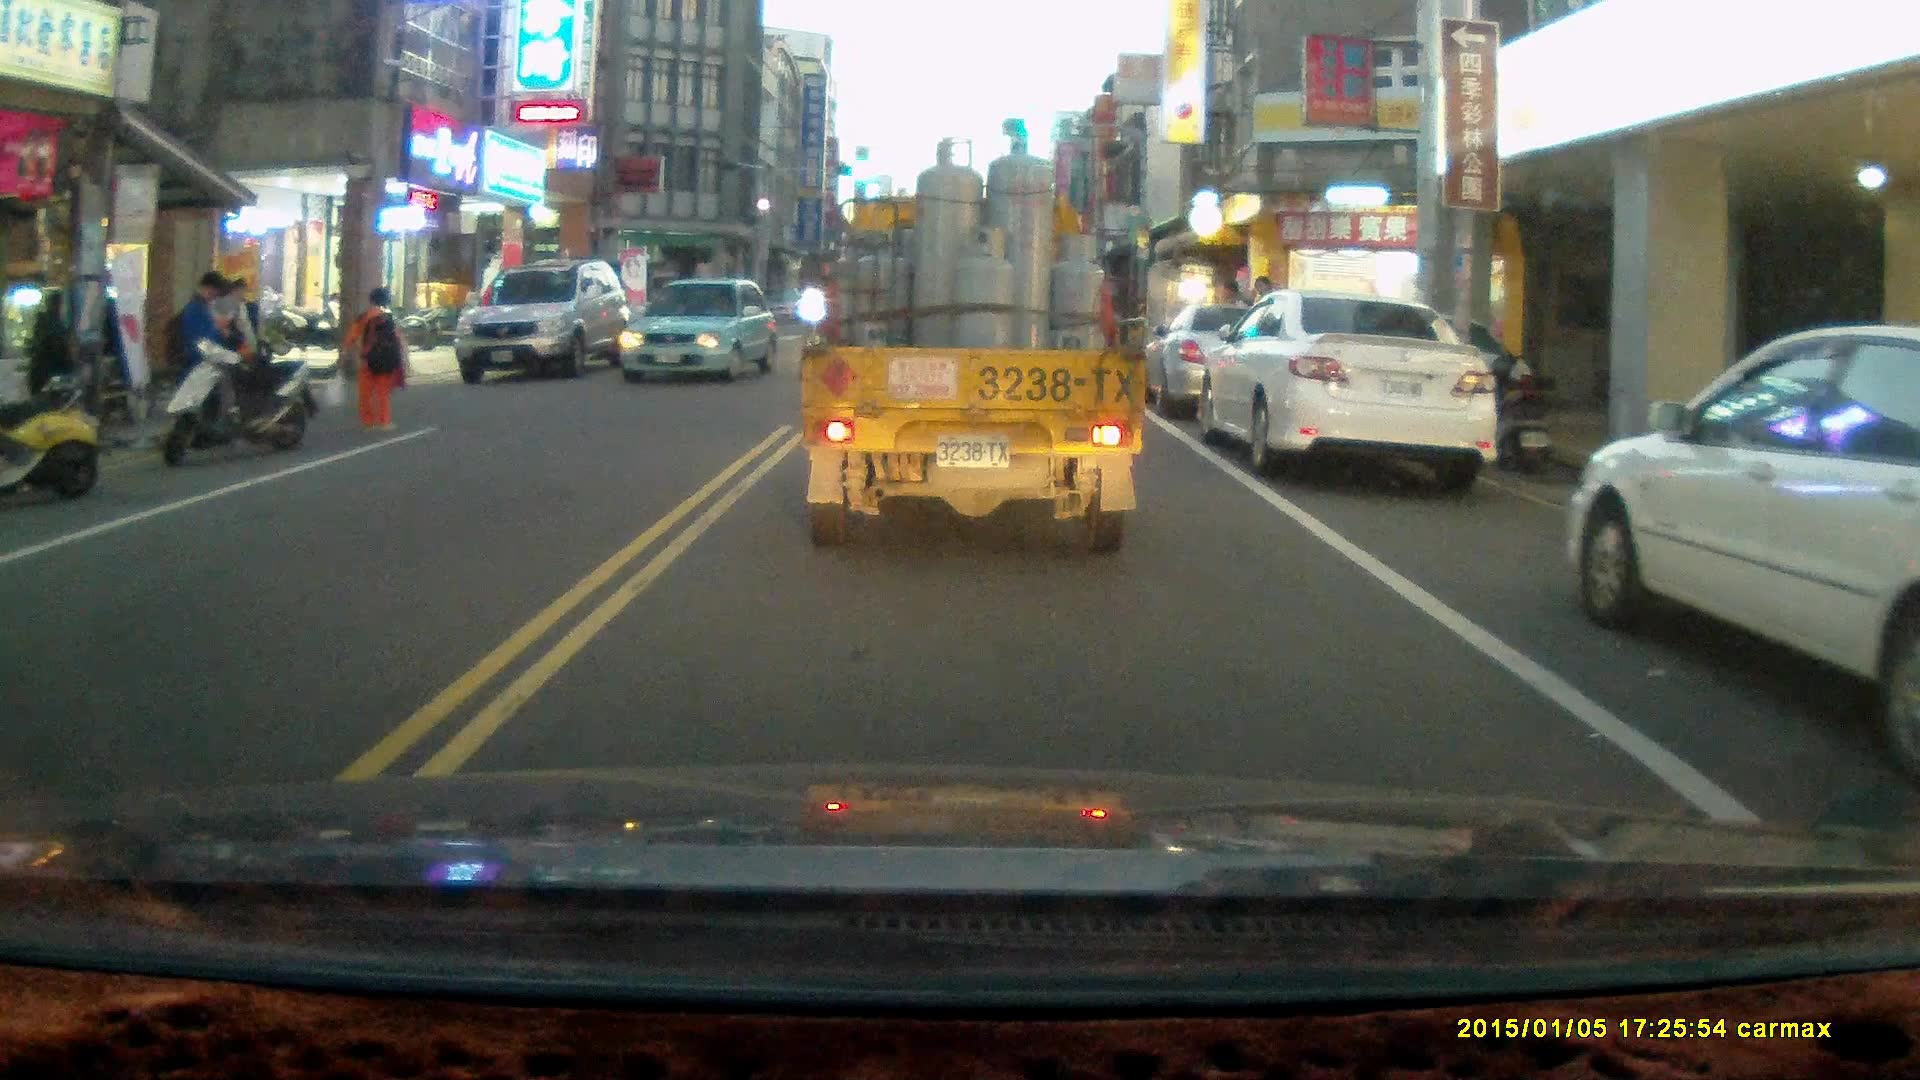pedestrian: (158, 271, 234, 448), (344, 284, 410, 430), (22, 287, 72, 446)
vehicle: (798, 130, 1153, 558), (1571, 322, 1920, 744), (1200, 287, 1498, 487), (1143, 300, 1363, 425), (459, 260, 630, 389), (616, 278, 782, 387)
